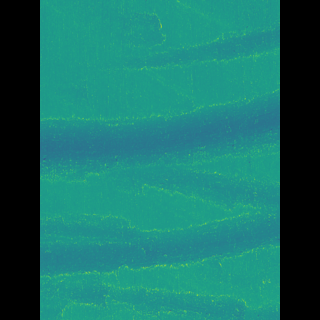Loch: (69, 170, 250, 284), (70, 83, 250, 186), (133, 19, 251, 75), (69, 286, 251, 319)
